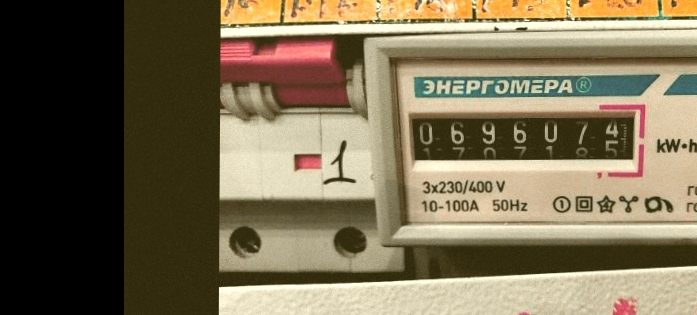0: (417, 119, 435, 144), (543, 117, 559, 143)
4: (605, 116, 619, 137)
5: (605, 138, 619, 157)
6: (448, 118, 466, 143), (512, 117, 528, 144)
7: (574, 118, 590, 144)
9: (480, 118, 497, 145)
screen: (403, 99, 650, 178)
